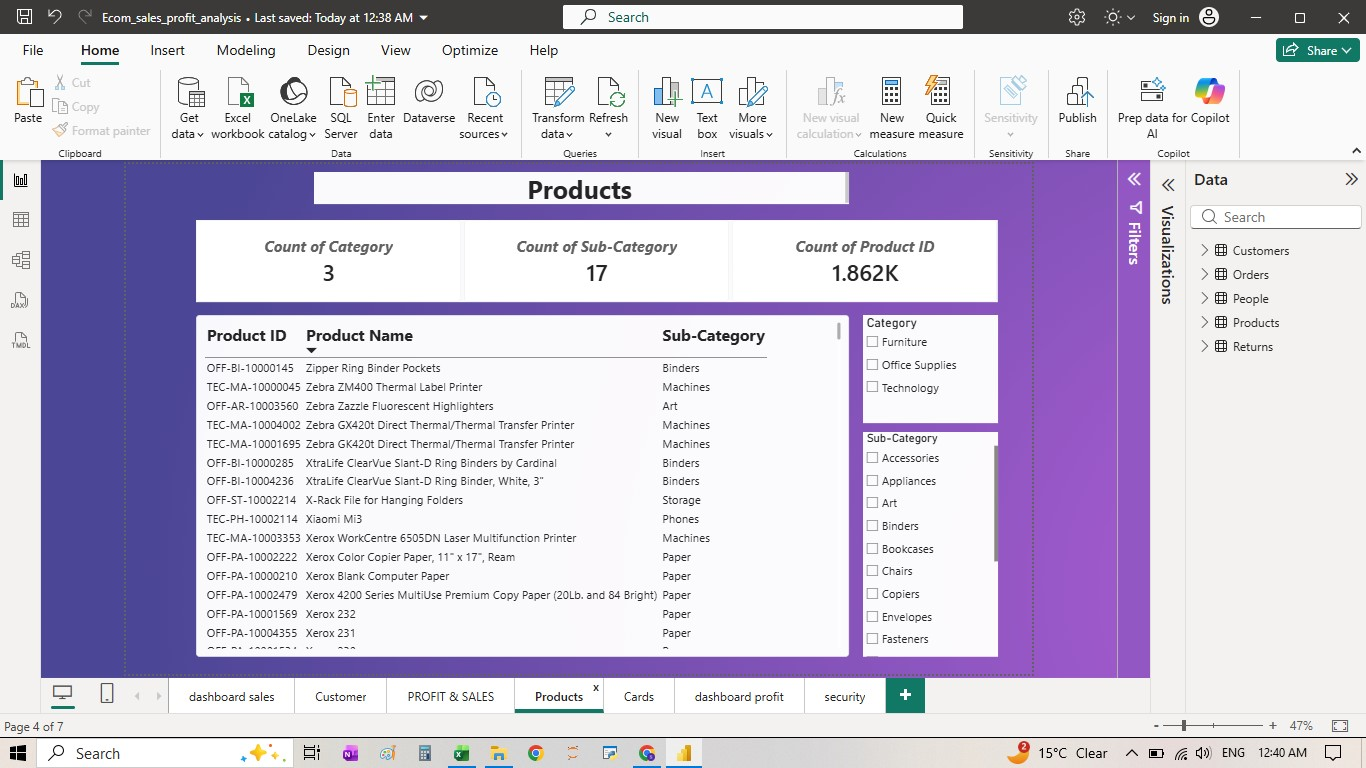

What the dashboard file says about the page in this screenshot:
{"tool":"powerbi","page":{"name":"Products","canvas":[1920,1080],"ordinal":3},"visuals":[{"type":"textbox","box":[398.1,16.9,1132.9,67.8],"z":0},{"type":"cardVisual","fields":{"Data":["Count(Products.Category)","Count(Products.Sub-Category)","Count(Products.Product ID)"]},"box":[148.2,118.6,1698.4,173.6],"z":1000},{"type":"tableEx","fields":{"Values":["Products.Product ID","Products.Product Name","Products.Sub-Category"]},"box":[148.2,319.8,1382.8,724.2],"z":2000},{"type":"slicer","fields":{"Values":["Products.Category"]},"box":[1560.7,319.8,285.9,228.7],"z":3000},{"type":"slicer","fields":{"Values":["Products.Sub-Category"]},"box":[1560.7,567.5,285.9,476.5],"z":4000}]}

Visuals, with their boxes on the page's 1920x1080 design canvas (x1, y1, x2, y2). These are canvas units, not pixel positions in the 1366x768 screenshot, which may show the page scaled, cropped or inside an application window:
textbox: (x1=398, y1=17, x2=1531, y2=85)
cardVisual - Count(Products.Category) x Count(Products.Sub-Category): (x1=148, y1=119, x2=1847, y2=292)
tableEx - Products.Product ID x Products.Product Name: (x1=148, y1=320, x2=1531, y2=1044)
slicer - Products.Category: (x1=1561, y1=320, x2=1847, y2=548)
slicer - Products.Sub-Category: (x1=1561, y1=568, x2=1847, y2=1044)
